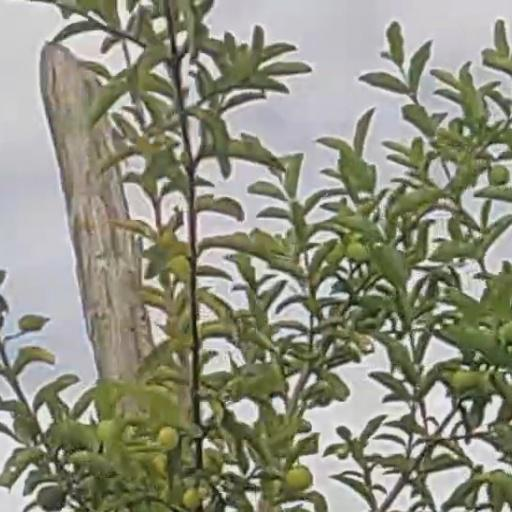acerola_verde: (290, 467, 311, 491), (160, 429, 178, 452), (489, 165, 507, 186)
